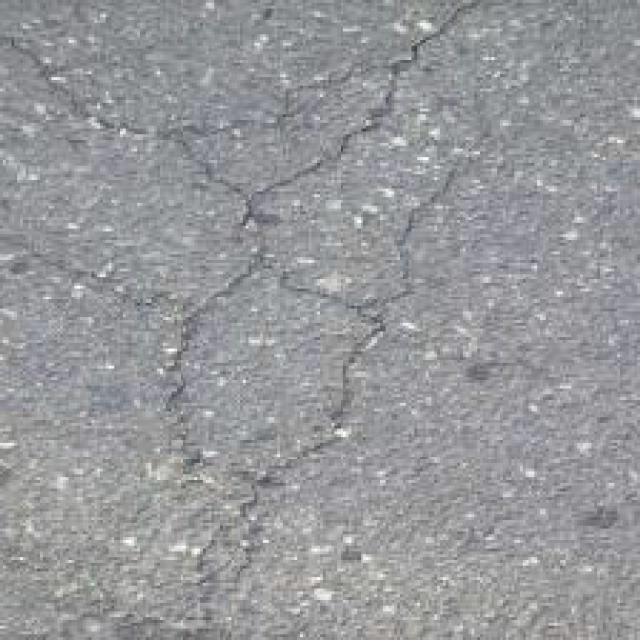SurfaceCrack: (130, 0, 498, 524)
